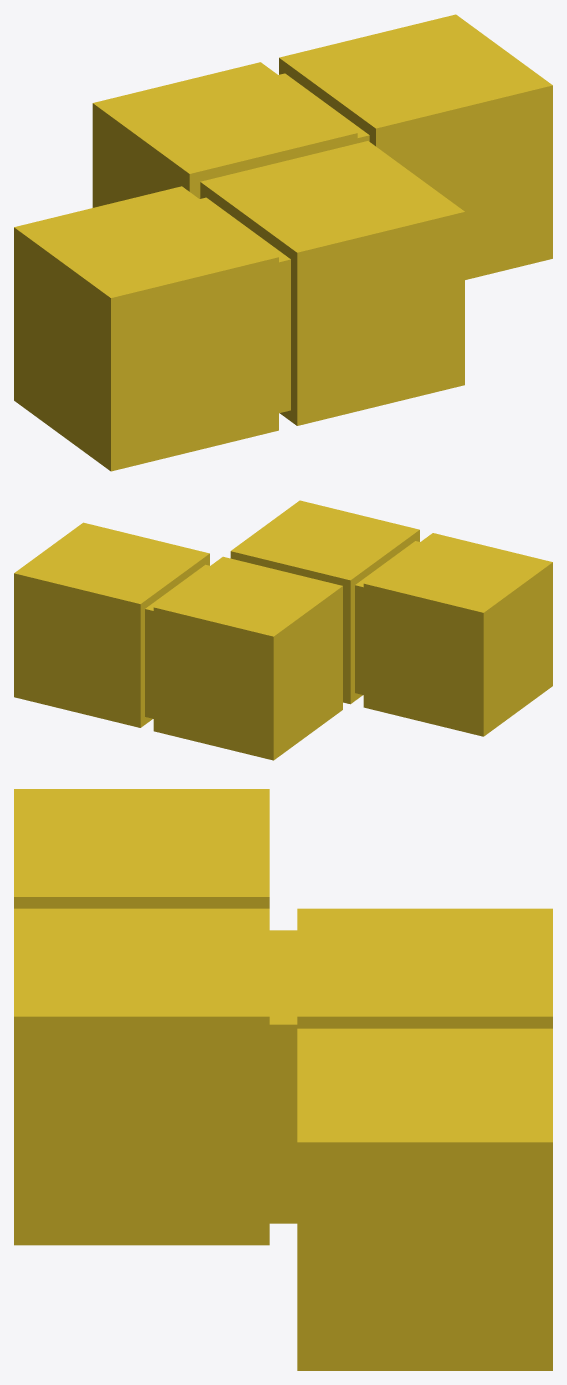
File: block_piece_4.fbx
3 renders of one model, top to bottom at view 1: azimuth 30°, elevation 25°; view 2: azimuth 150°, elevation 25°; view 3: azimuth 270°, elevation 25°, orthographic. The views are drawn at different scales.
Parts seen in each view (by area): view 1: Piece4; view 2: Piece4; view 3: Piece4.
Part boxes in pixels (<box>): Piece4: <box>14,14,552,471</box>; Piece4: <box>14,500,552,760</box>; Piece4: <box>14,789,552,1370</box>.
Size of the model in its own units: 72.09 by 21.73 by 46.46.
